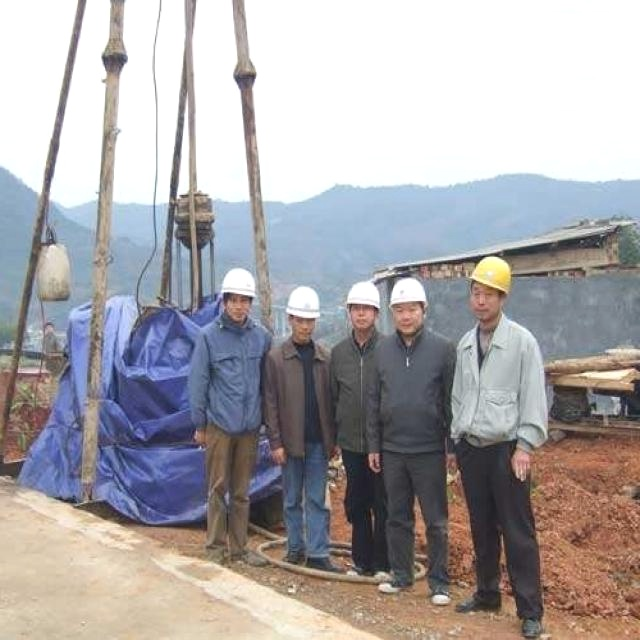Con_Casco: (388, 278, 430, 334), (283, 284, 321, 337), (345, 280, 383, 332)
